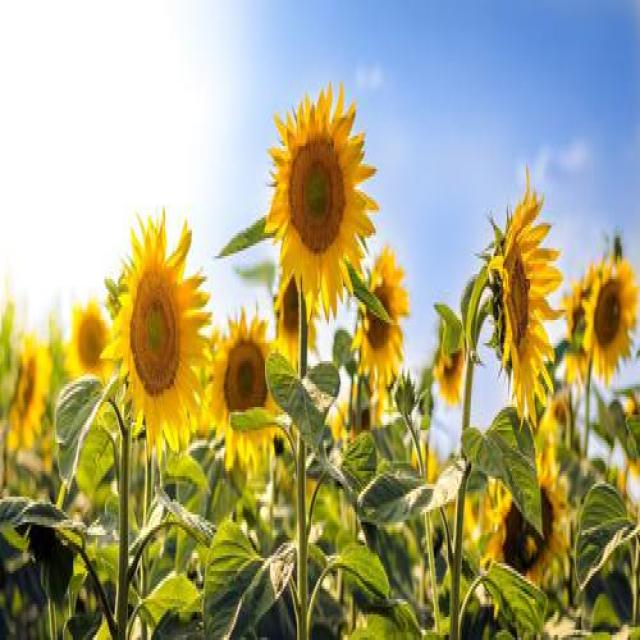sunflower: (264, 73, 380, 334), (100, 205, 211, 458), (484, 157, 564, 434), (204, 289, 286, 476), (581, 253, 640, 384), (348, 269, 408, 381), (7, 323, 54, 458), (62, 288, 112, 393), (432, 328, 468, 407)
